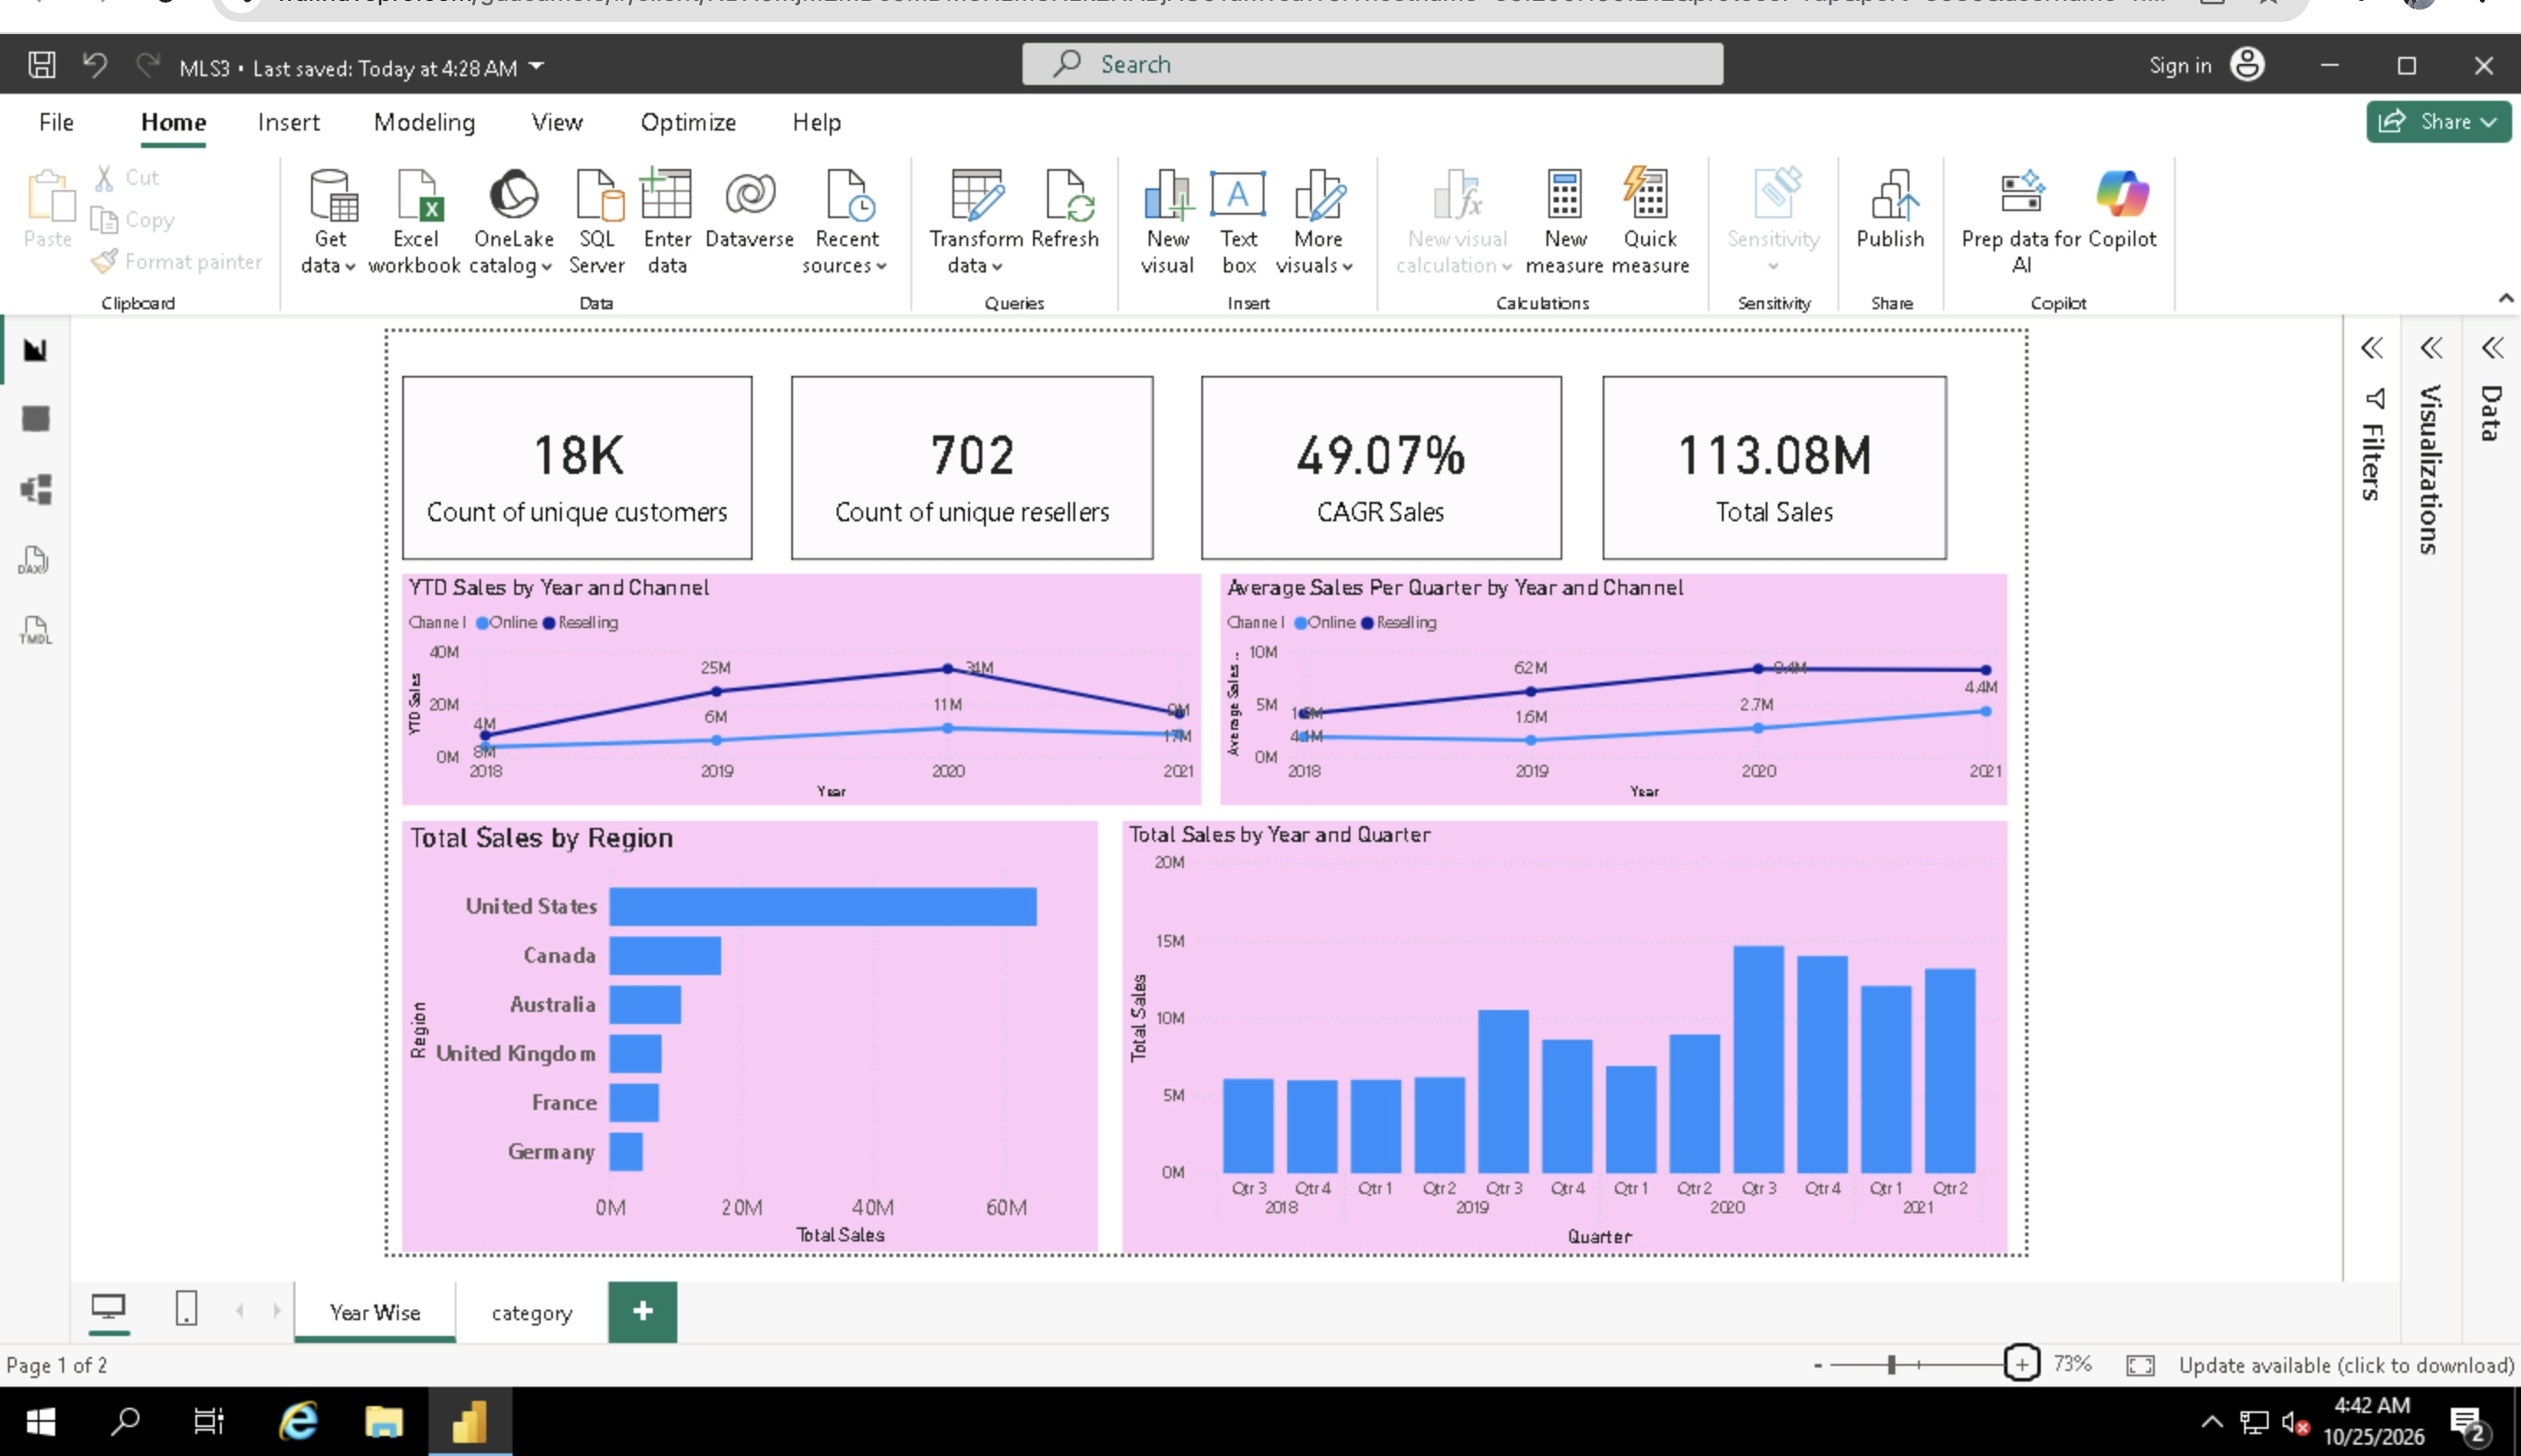

The dashboard page shown, as its layout file describes it:
{"tool":"powerbi","page":{"name":"Year Wise","canvas":[1280,720],"ordinal":0},"visuals":[{"type":"card","fields":{"Values":["Measure Table.Total Sales"]},"box":[949.3,33.7,269.5,143.9],"z":0},{"type":"card","fields":{"Values":["Measure Table.Count of unique resellers"]},"box":[315.4,33.7,283.3,143.9],"z":1000},{"type":"card","fields":{"Values":["Measure Table.CAGR Sales"]},"box":[635.4,33.7,281.7,143.9],"z":2000},{"type":"card","fields":{"Values":["Measure Table.Count of unique customers"]},"box":[10.7,33.7,274.1,143.9],"z":3000},{"type":"barChart","fields":{"Category":["Sales.Region"],"Y":["Measure Table.Total Sales"]},"box":[10.7,382.8,543.5,336.8],"z":4000},{"type":"lineChart","fields":{"Y":["Measure Table.YTD Sales"],"Category":["Date.DateNode.Variation.Date Hierarchy.Year"],"Series":["OrderType.Channel"]},"box":[10.6,189.3,624.7,181.3],"z":5000},{"type":"clusteredColumnChart","fields":{"Y":["Measure Table.Total Sales"],"Category":["Date.DateNode.Variation.Date Hierarchy.Year","Date.DateNode.Variation.Date Hierarchy.Quarter"]},"box":[574.4,382.5,692.2,337.5],"z":6000},{"type":"lineChart","fields":{"Y":["Measure Table.Average Sales Per Quarter"],"Category":["Date.DateNode.Variation.Date Hierarchy.Year"],"Series":["OrderType.Channel"]},"box":[651.2,189.3,615.4,181.3],"z":7000}]}

Visuals, with their boxes on the page's 1280x720 design canvas (x1, y1, x2, y2). These are canvas units, not pixel positions in the 2521x1456 screenshot, which may show the page scaled, cropped or inside an application window:
card - Measure Table.Total Sales: 949 34 1219 178
card - Measure Table.Count of unique resellers: 315 34 599 178
card - Measure Table.CAGR Sales: 635 34 917 178
card - Measure Table.Count of unique customers: 11 34 285 178
barChart - Sales.Region x Measure Table.Total Sales: 11 383 554 720
lineChart - Measure Table.YTD Sales x Date.DateNode.Variation.Date Hierarchy.Year: 11 189 635 371
clusteredColumnChart - Measure Table.Total Sales x Date.DateNode.Variation.Date Hierarchy.Year: 574 382 1267 720
lineChart - Measure Table.Average Sales Per Quarter x Date.DateNode.Variation.Date Hierarchy.Year: 651 189 1267 371
